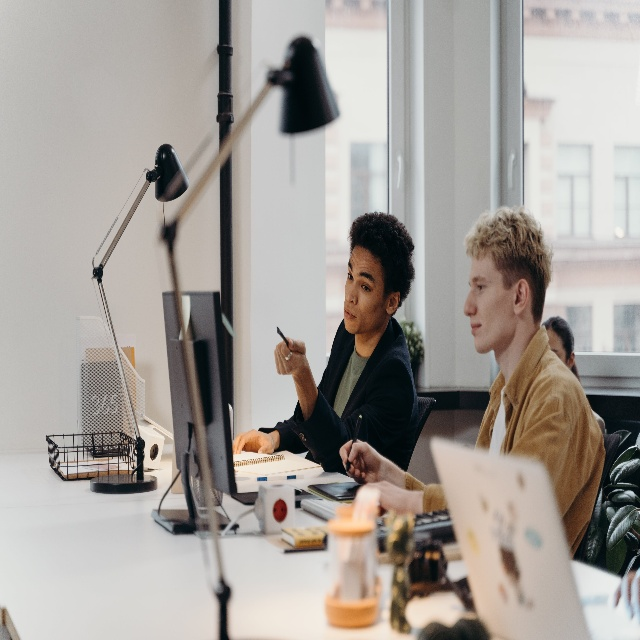Sin_guantes: (337, 437, 381, 480), (271, 330, 308, 375), (232, 425, 277, 457)
